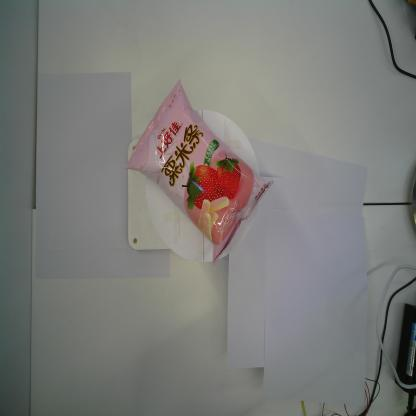Puffed Food: (123, 76, 275, 266)
